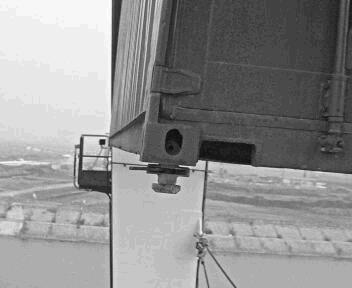twist_lock_1: (139, 162, 193, 202)
